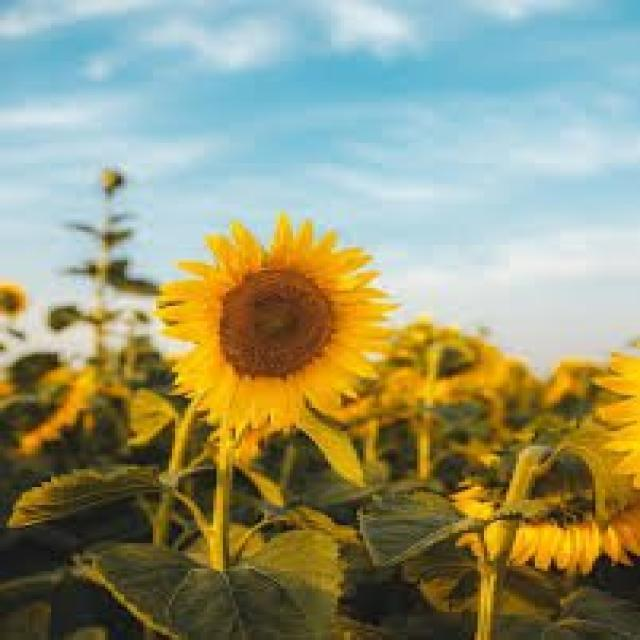sunflower: (153, 209, 395, 436), (458, 444, 640, 573), (589, 355, 637, 497), (19, 377, 102, 454), (417, 334, 506, 399), (0, 282, 25, 318)
